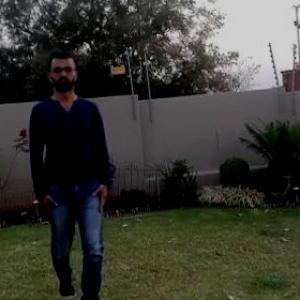follow: (36, 58, 110, 289)
